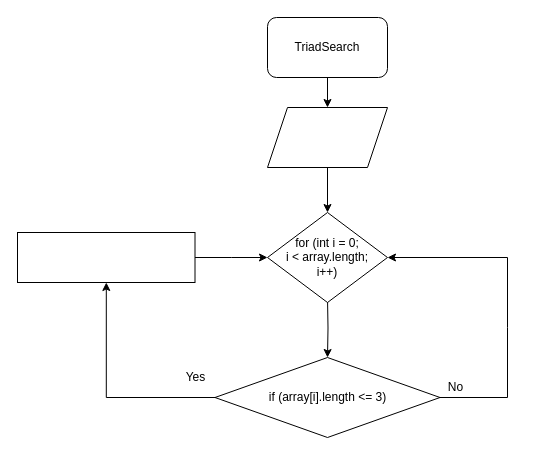
Image size: 533x455. Some labels were removed from this diagram. Each missing label, with the box of its shape:
array1[count] = array[i] count++;: (16, 232, 195, 282)
string[] array string array1 int count = 0: (266, 106, 388, 168)
